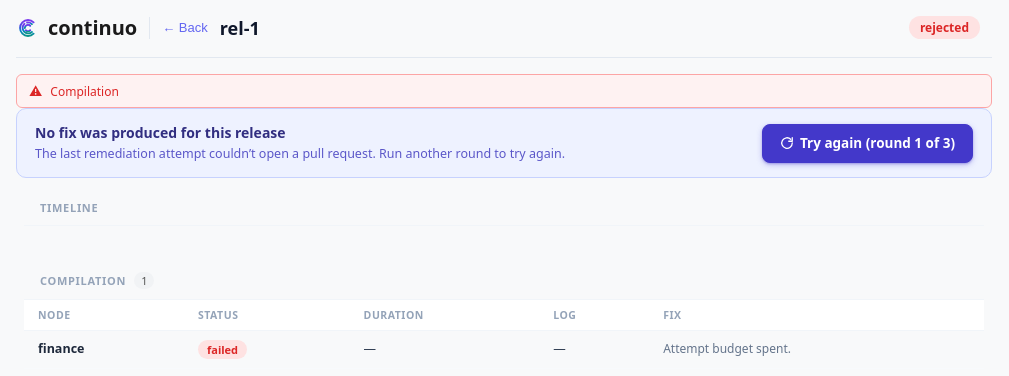
Test: ReleaseDetailPage — retry a dead-end rejected release › bumps the round shown in the header and restarts proposal polling after a successful retry (202)
Click the button "Try again (round 1 of 3)": (867, 143) [762,124,973,162]
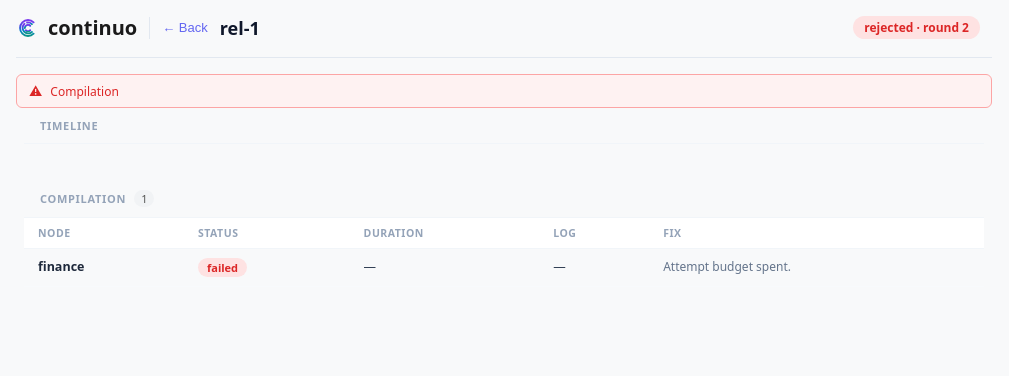
Expected: the text "rejected · round 2" is shown, [853,16,980,39]
